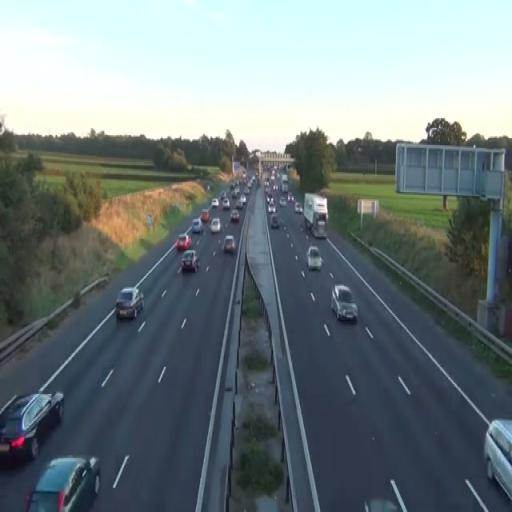Car: (0, 389, 65, 466), (24, 455, 102, 512), (484, 419, 512, 501), (331, 284, 358, 324), (115, 287, 144, 320), (306, 246, 324, 272), (181, 249, 199, 273), (176, 232, 192, 252), (223, 234, 236, 254), (210, 218, 222, 233), (230, 208, 240, 222)
Truck: (303, 193, 328, 238)
